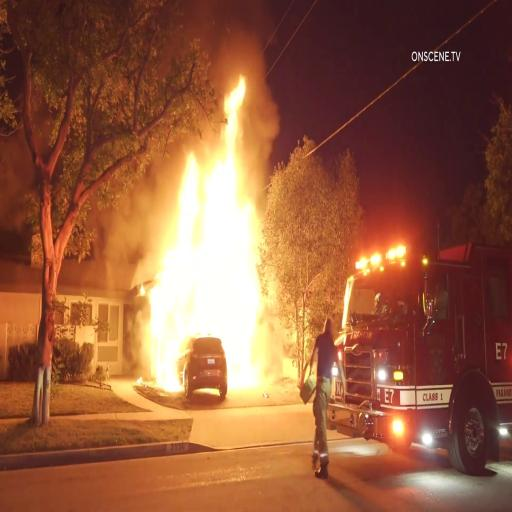fire: (156, 74, 267, 384)
smoke: (169, 2, 256, 66)
